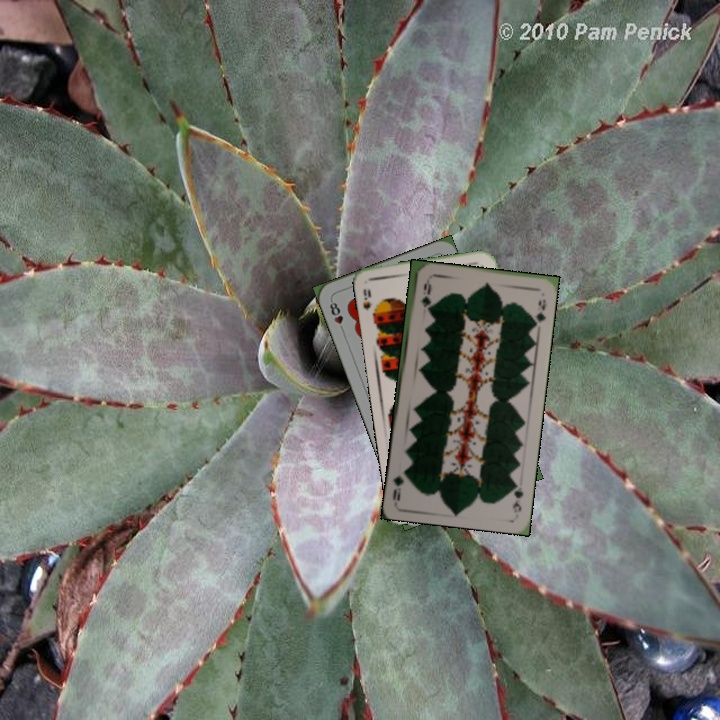G9: (508, 477, 526, 515), (417, 276, 431, 310)
H8: (325, 296, 347, 335)
S9: (359, 285, 380, 322)
